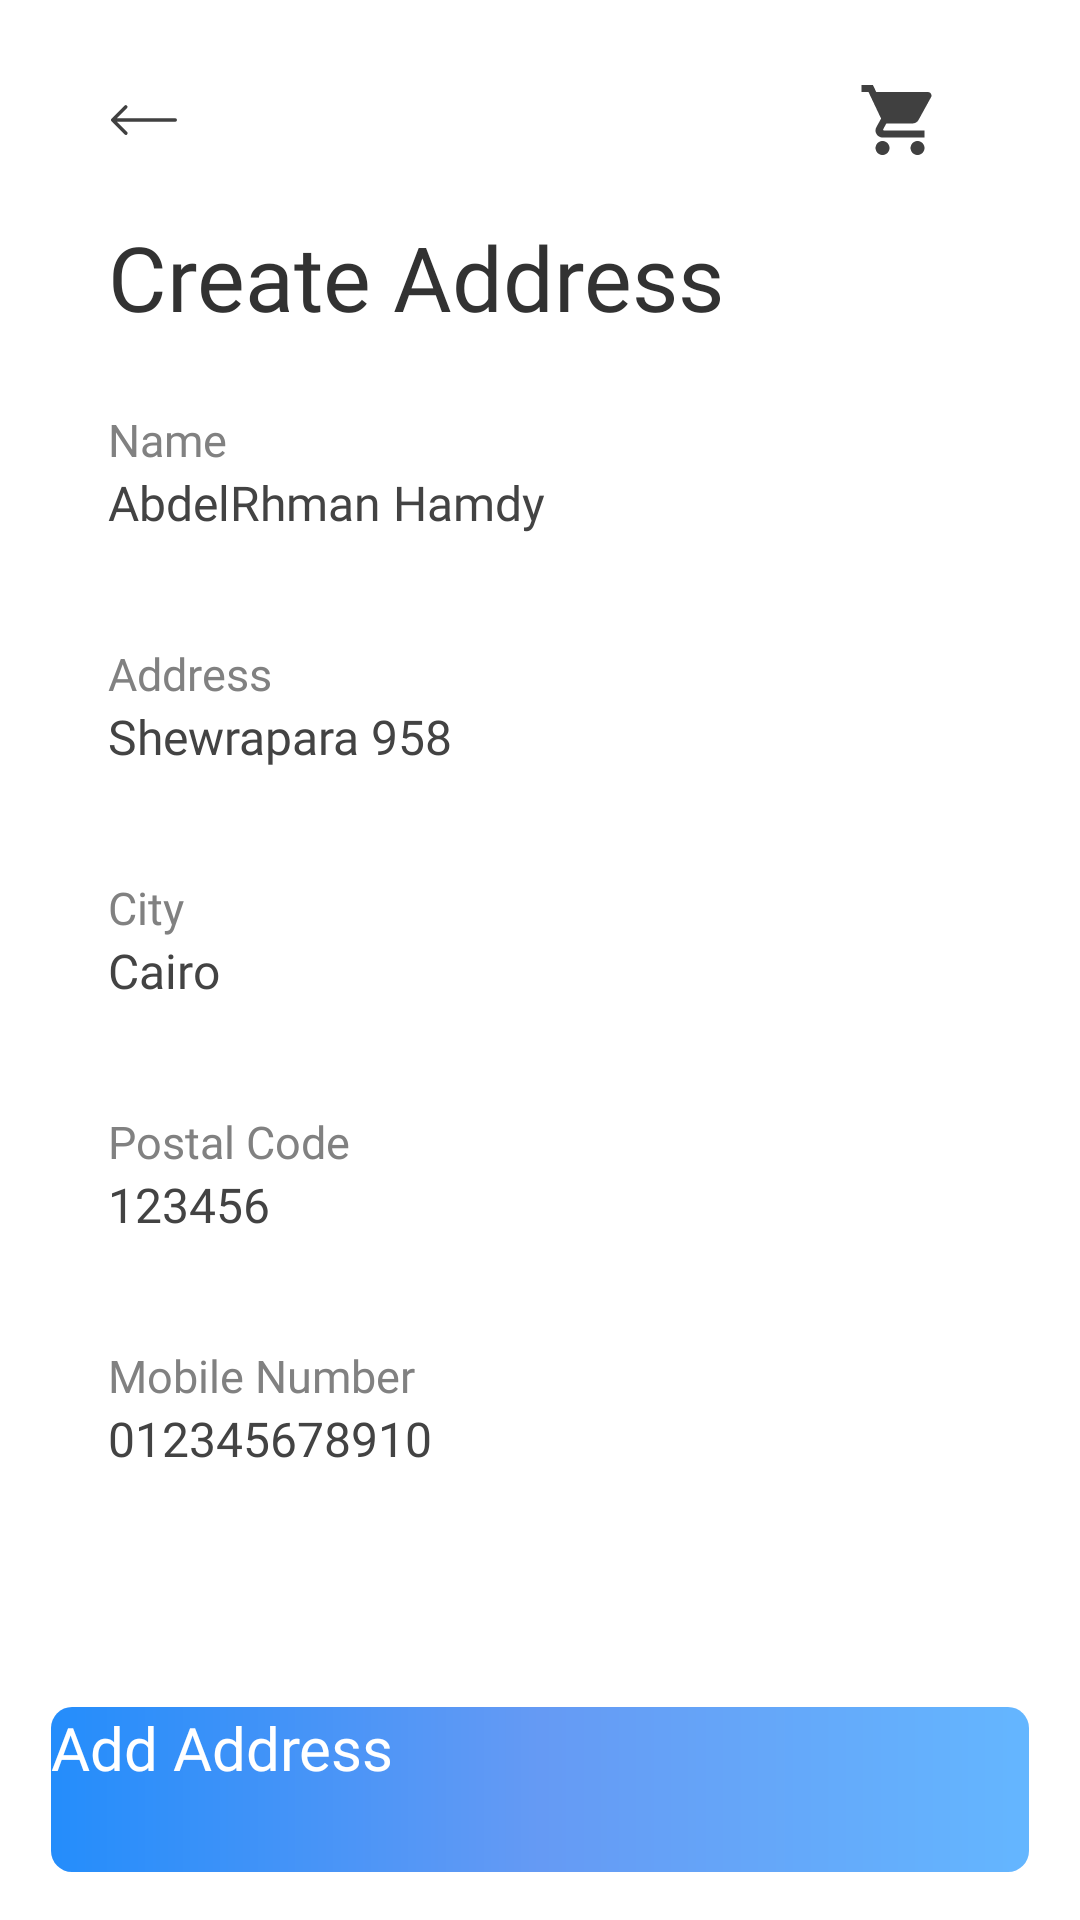

Locate icon controls on the screen. Image size 1080px x 1920px, boxes as (x1, y1, x2, y2).
back: (111, 105, 177, 135)
shopping cart: (861, 85, 932, 155)
